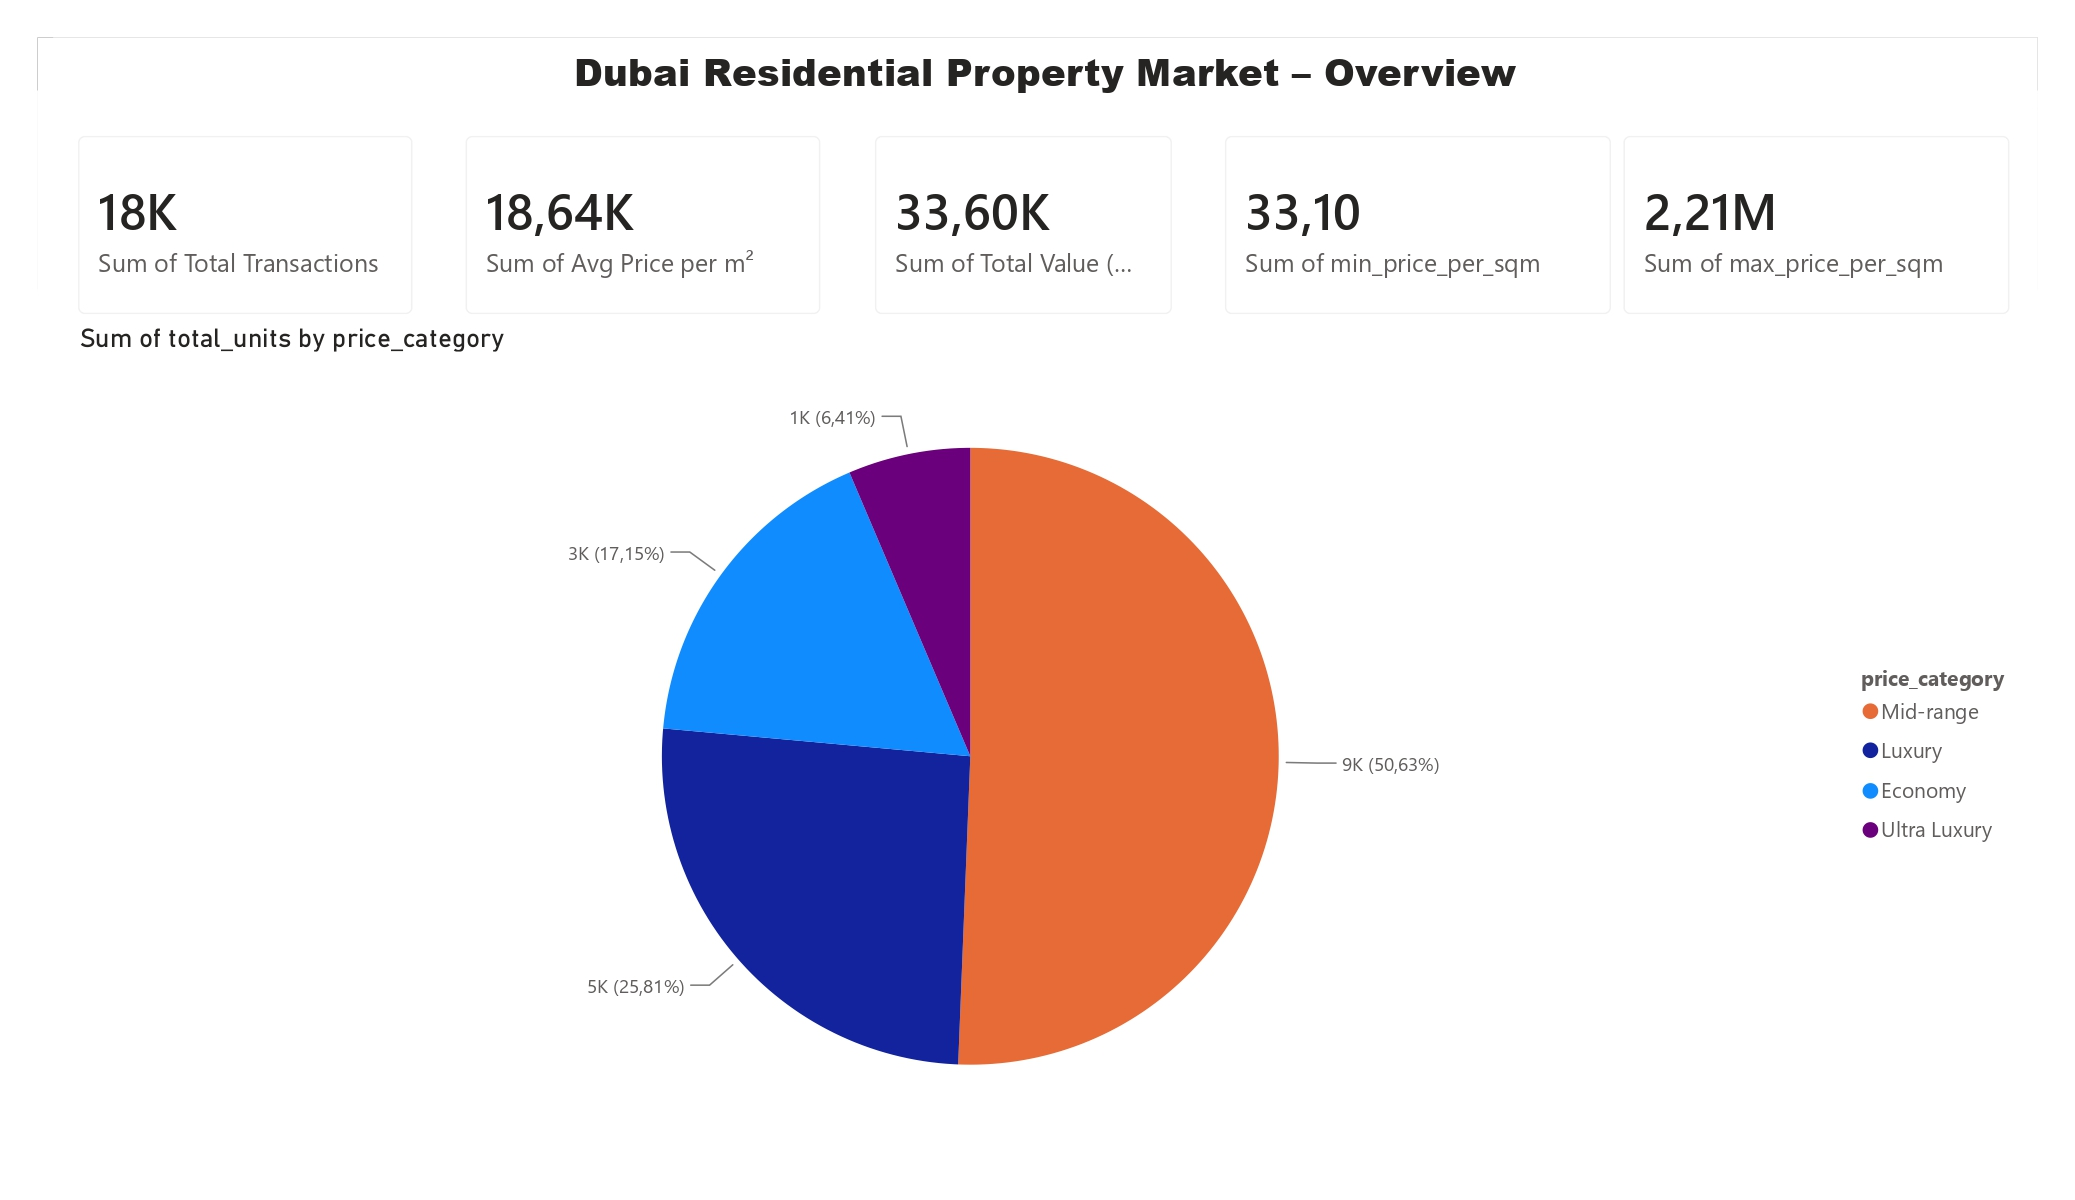

What the dashboard file says about the page in this screenshot:
{"tool":"powerbi","page":{"name":"1. Market Overview","canvas":[1280,720],"ordinal":0},"visuals":[{"type":"textbox","box":[10.1,0,1269.9,45.4],"z":0},{"type":"cardVisual","fields":{"Data":["Sum(01_Overview_Summary.total_transactions)"]},"box":[9.2,46,248.3,149],"z":1000},{"type":"cardVisual","fields":{"Data":["Sum(01_Overview_Summary.avg_price_per_sqm)"]},"box":[257.5,46,261.1,149],"z":2000},{"type":"cardVisual","fields":{"Data":["Sum(01_Overview_Summary.total_transaction_value_million_aed)"]},"box":[518.6,46,224.4,149],"z":3000},{"type":"cardVisual","fields":{"Data":["Sum(01_Overview_Summary.min_price_per_sqm)","Sum(01_Overview_Summary.max_price_per_sqm)"]},"box":[743,46,537,149],"z":4000},{"type":"pieChart","fields":{"Category":["04_Price_Category.price_category"],"Y":["Sum(04_Price_Category.total_units)"]},"box":[22.1,182.1,1257.9,537],"z":5000}]}

Visuals, with their boxes on the page's 1280x720 design canvas (x1, y1, x2, y2). These are canvas units, not pixel positions in the 2075x1200 screenshot, which may show the page scaled, cropped or inside an application window:
textbox: x1=10 y1=0 x2=1280 y2=45
cardVisual - Sum(01_Overview_Summary.total_transactions): x1=9 y1=46 x2=258 y2=195
cardVisual - Sum(01_Overview_Summary.avg_price_per_sqm): x1=258 y1=46 x2=519 y2=195
cardVisual - Sum(01_Overview_Summary.total_transaction_value_million_aed): x1=519 y1=46 x2=743 y2=195
cardVisual - Sum(01_Overview_Summary.min_price_per_sqm) x Sum(01_Overview_Summary.max_price_per_sqm): x1=743 y1=46 x2=1280 y2=195
pieChart - 04_Price_Category.price_category x Sum(04_Price_Category.total_units): x1=22 y1=182 x2=1280 y2=719
